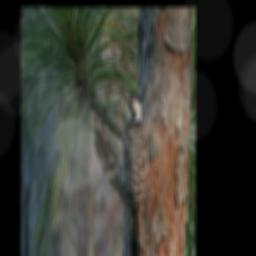Woodpecker: (119, 90, 155, 256)
